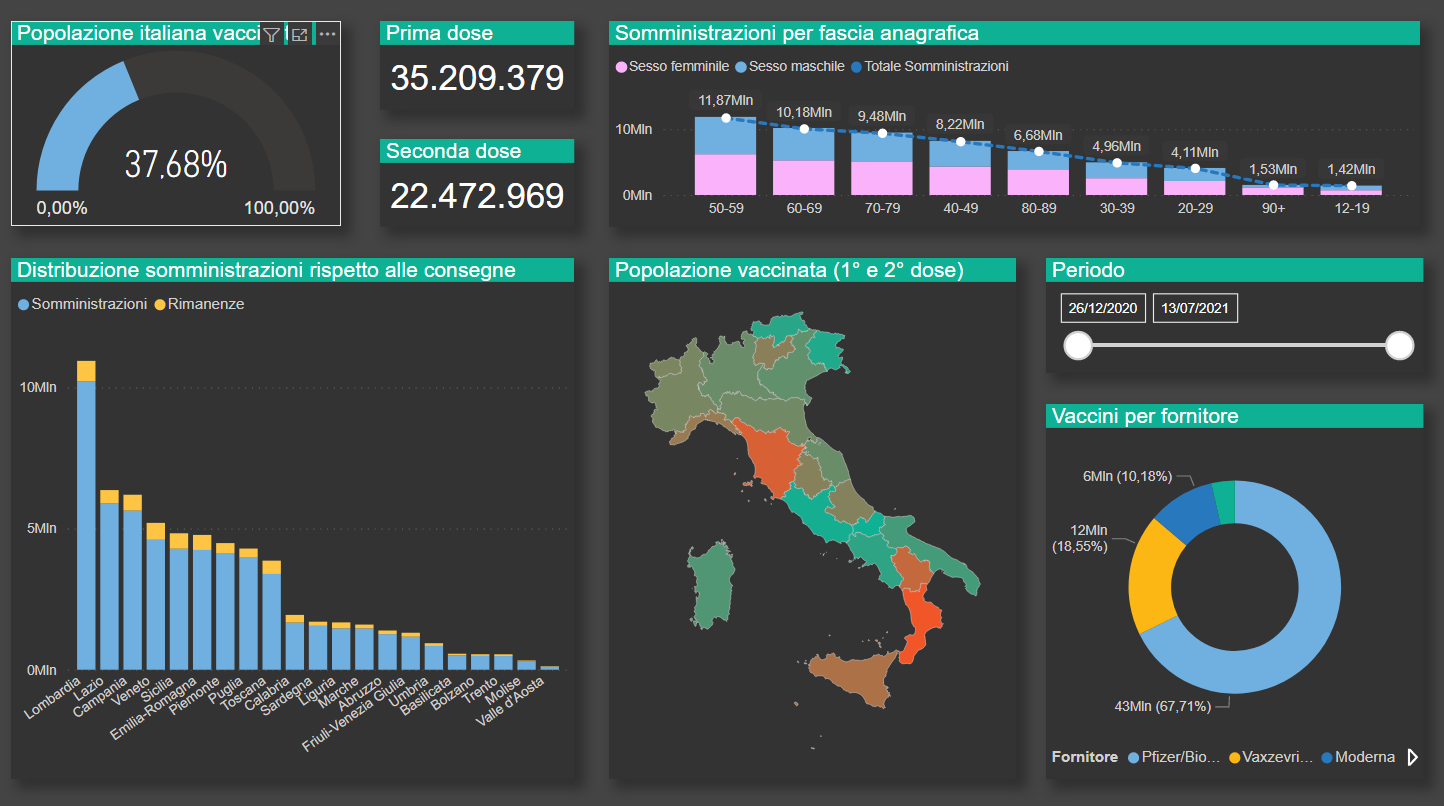

Layout of this report page (visuals, bound fields, positions):
{"tool":"powerbi","page":{"name":"Dashboard Vaccini","canvas":[1280,720],"ordinal":2},"visuals":[{"type":"card","title":"Prima dose","fields":{"Values":["Sum(Somministrazioni Vaccini.prima_dose)"]},"box":[339.2,23.3,171.4,78.1],"z":0},{"type":"card","title":"Seconda dose","fields":{"Values":["Sum(Somministrazioni Vaccini.seconda_dose)"]},"box":[339.2,127.1,171.4,76.9],"z":1000},{"type":"shapeMap","title":"Popolazione vaccinata (1° e 2° dose)","fields":{"Category":["Popolazione.denominazione_regione"],"Value":["Somministrazioni Vaccini.tasso_vaccinati"]},"box":[540.9,232,357.9,458.1],"z":2000},{"type":"gauge","title":"Popolazione italiana vaccinata","fields":{"Y":["Somministrazioni Vaccini.tasso_vaccinati"]},"box":[15.2,23.3,290.3,180.7],"z":3000},{"type":"donutChart","title":"Vaccini per fornitore","fields":{"Category":["Consegne Vaccini.fornitore"],"Y":["Sum(Consegne Vaccini.numero_dosi)"]},"box":[924.4,360.2,332.2,329.9],"z":4000},{"type":"slicer","title":"Periodo","fields":{"Values":["Data.data"]},"box":[924.4,232,332.2,101.4],"z":5000},{"type":"lineStackedColumnComboChart","title":"Somministrazioni per fascia anagrafica","fields":{"Category":["Somministrazioni Vaccini.fascia_anagrafica"],"Y":["Sum(Somministrazioni Vaccini.sesso_femminile)","Sum(Somministrazioni Vaccini.sesso_maschile)"],"Y2":["Somministrazioni Vaccini.totale_somministrazioni"]},"box":[540.9,23.3,713.4,180.7],"z":6000},{"type":"columnChart","title":"Distribuzione somministrazioni rispetto alle consegne","fields":{"Category":["Popolazione.denominazione_regione"],"Y":["Somministrazioni Vaccini.totale_somministrazioni","Somministrazioni Vaccini.rimanenze"]},"box":[15.2,232,495.4,458.1],"z":7000}]}

Visuals, with their boxes in screenshot pixels (x1, y1, x2, y2), scaled from the page's 1280x720 canvas onto the 1444x806 screenshot:
"Prima dose" card: bbox=[383, 26, 576, 114]
"Seconda dose" card: bbox=[383, 142, 576, 228]
"Popolazione vaccinata (1° e 2° dose)" shapeMap: bbox=[610, 260, 1014, 773]
"Popolazione italiana vaccinata" gauge: bbox=[17, 26, 345, 228]
"Vaccini per fornitore" donutChart: bbox=[1043, 403, 1418, 773]
"Periodo" slicer: bbox=[1043, 260, 1418, 373]
"Somministrazioni per fascia anagrafica" lineStackedColumnComboChart: bbox=[610, 26, 1415, 228]
"Distribuzione somministrazioni rispetto alle consegne" columnChart: bbox=[17, 260, 576, 773]
